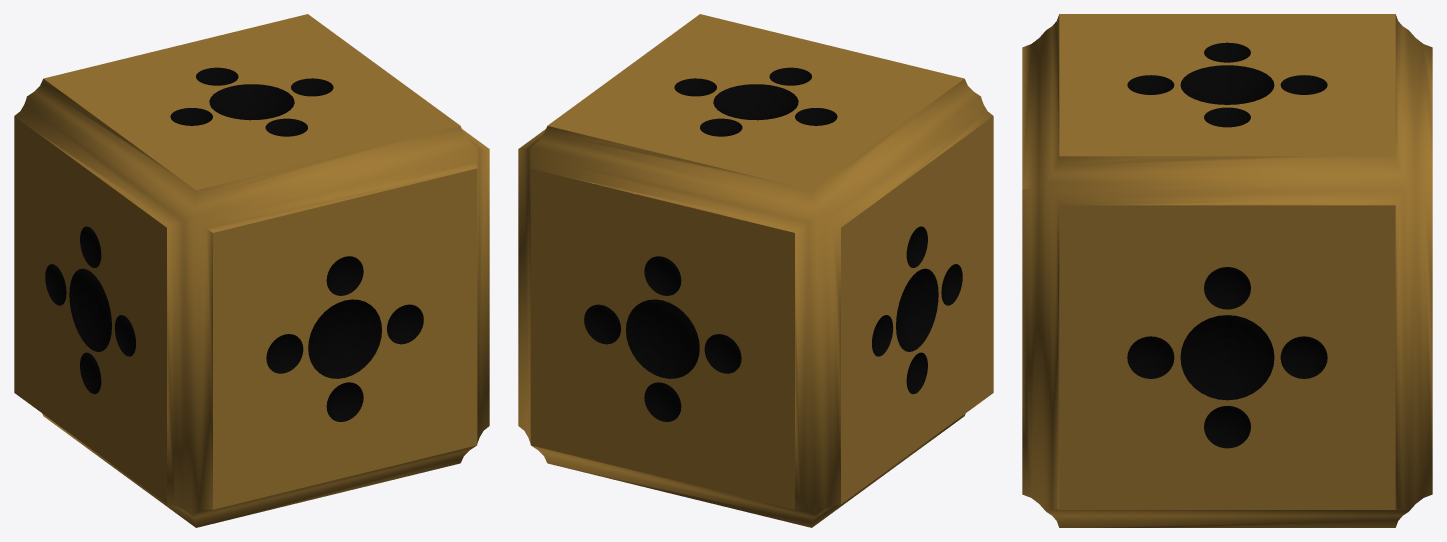
File: alt_king_w.glb
3 views of the same model, side by side, from view 1: azimuth 30°, elevation 25°; view 2: azimuth 150°, elevation 25°; view 3: azimuth 270°, elevation 25° (orthographic). The views are drawn at different scales.
Visible parts, largest first — view 1: King.001; view 2: King.001; view 3: King.001.
Boxes of the visible parts, x1,y1,x2,y2 form: King.001: [14, 14, 489, 527]; King.001: [518, 14, 993, 527]; King.001: [1022, 14, 1432, 527].
Size of the model in its own units: 2 by 2 by 2.
